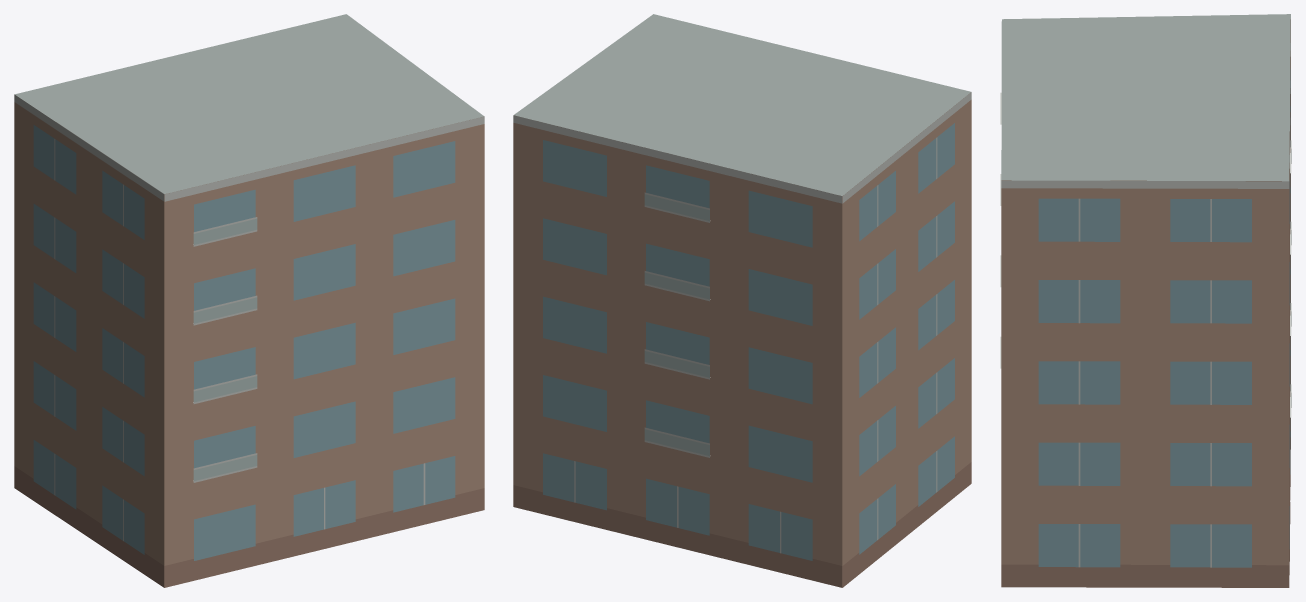
Rendered from survey-upis-32730081.glb.
3 renders of one model, left to right at view 1: azimuth 30°, elevation 25°; view 2: azimuth 150°, elevation 25°; view 3: azimuth 270°, elevation 25°, orthographic. The views are drawn at different scales.
Parts seen in each view (by area): view 1: survey-upis-32730081.tmp; view 2: survey-upis-32730081.tmp; view 3: survey-upis-32730081.tmp.
Part boxes in pixels (box(x1,y1,x2,y2)): survey-upis-32730081.tmp: box(14, 14, 484, 587); survey-upis-32730081.tmp: box(513, 14, 971, 587); survey-upis-32730081.tmp: box(1000, 14, 1291, 587).
Bounding box in the file's own units: 11.2 × 12.7 × 8.25.
